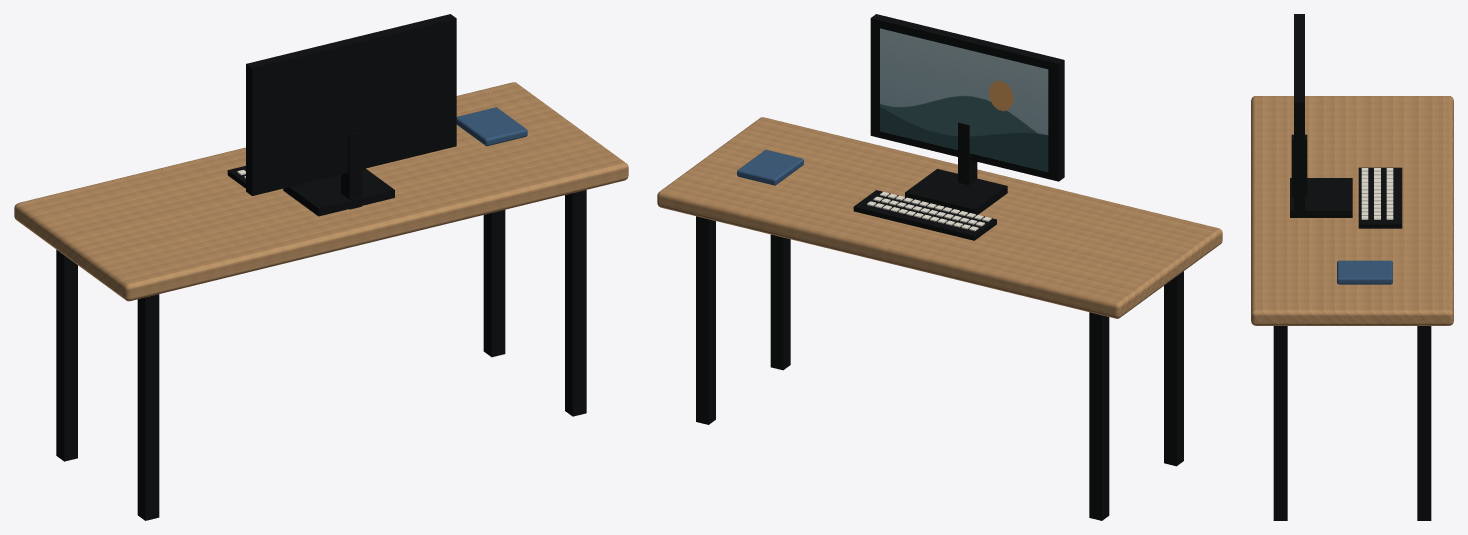
Rendered from home_office_desk.dae.
The picture shows the model from 3 angles, left to right: view 1: azimuth 30°, elevation 25°; view 2: azimuth 150°, elevation 25°; view 3: azimuth 270°, elevation 25°; orthographic projection. The views are drawn at different scales.
Visible parts, largest first — view 1: oak, charcoal, blue; view 2: oak, charcoal, art, white, blue; view 3: oak, charcoal, blue, white.
Boxes of the visible parts, x1=… form: oak: x1=14, y1=82, x2=628, y2=301; charcoal: x1=56, y1=14, x2=586, y2=520; blue: x1=456, y1=107, x2=527, y2=146; oak: x1=657, y1=117, x2=1222, y2=318; charcoal: x1=696, y1=14, x2=1183, y2=520; art: x1=880, y1=28, x2=1048, y2=171; white: x1=867, y1=192, x2=991, y2=231; blue: x1=737, y1=149, x2=803, y2=185; oak: x1=1251, y1=96, x2=1453, y2=325; charcoal: x1=1273, y1=14, x2=1431, y2=520; blue: x1=1337, y1=260, x2=1392, y2=284; white: x1=1361, y1=168, x2=1393, y2=219.
Bounding box in the file's own units: 1.65 × 0.65 × 1.3.
5 materials, 2 textured.
